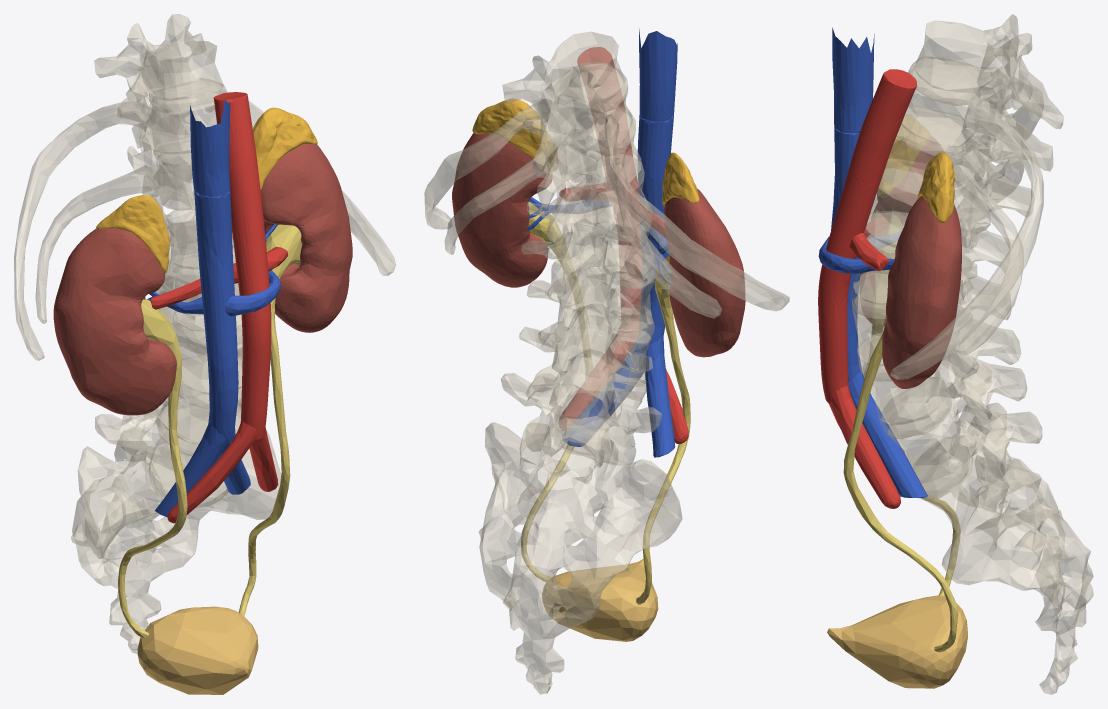
Rendered from urinary.glb.
3 views of the same model, side by side, from view 1: azimuth 30°, elevation 25°; view 2: azimuth 150°, elevation 25°; view 3: azimuth 270°, elevation 25° (orthographic). The views are drawn at different scales.
Visible parts, largest first — view 1: spine, kidneys, veins, arteries, bladder, ureters, adrenal; view 2: spine, kidneys, veins, arteries, bladder, ureters, adrenal; view 3: spine, arteries, kidneys, veins, bladder, ureters, adrenal.
Part boxes in pixels (box(x1,y1,x2,y2)): spine: box(14, 14, 395, 653); kidneys: box(53, 143, 352, 415); veins: box(147, 99, 280, 517); arteries: box(150, 92, 287, 523); bladder: box(137, 606, 258, 694); ureters: box(118, 224, 301, 638); adrenal: box(96, 107, 317, 272); spine: box(424, 31, 789, 694); kidneys: box(452, 133, 745, 357); veins: box(527, 29, 677, 457); arteries: box(559, 47, 688, 443); bladder: box(542, 559, 658, 641); ureters: box(521, 201, 690, 604); adrenal: box(472, 98, 699, 206); spine: box(851, 14, 1093, 694); arteries: box(818, 69, 916, 508); kidneys: box(860, 137, 961, 388); veins: box(818, 27, 927, 497); bladder: box(827, 595, 967, 688); ureters: box(843, 214, 960, 652); adrenal: box(878, 115, 955, 222).
Size of the model in its own units: 0.2214 by 0.3746 by 0.1401.
